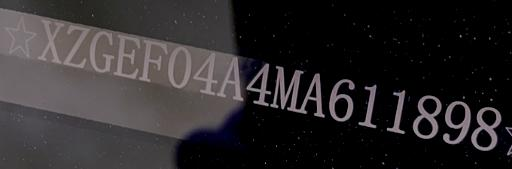letter: (470, 104, 502, 157), (410, 93, 440, 144), (442, 96, 470, 150), (271, 65, 301, 114), (382, 88, 410, 136), (218, 53, 244, 104), (244, 60, 272, 107), (328, 77, 356, 124), (190, 49, 218, 96), (301, 71, 327, 120), (36, 15, 62, 64), (140, 35, 166, 84), (86, 29, 114, 74), (113, 32, 139, 80), (358, 84, 382, 133), (64, 23, 88, 71), (168, 44, 190, 91)
